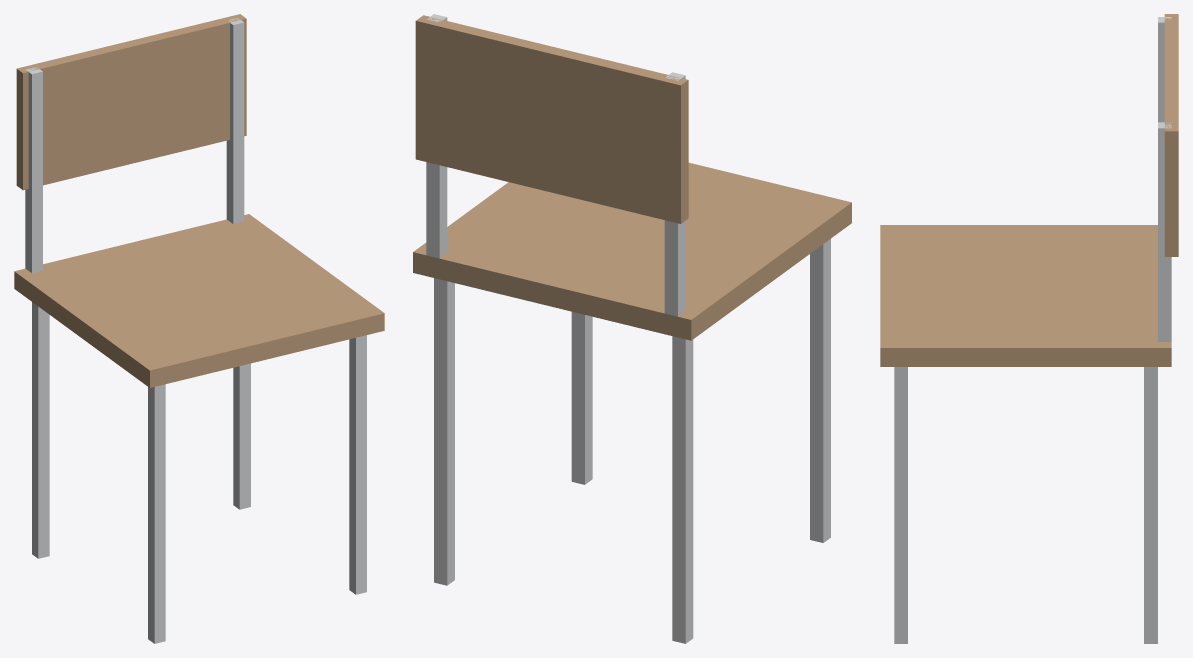
File: Chair_Cafe.fbx
The picture shows the model from 3 angles, left to right: view 1: azimuth 30°, elevation 25°; view 2: azimuth 150°, elevation 25°; view 3: azimuth 270°, elevation 25°; orthographic projection. The views are drawn at different scales.
Parts seen in each view (by area): view 1: Chair_Cafe; view 2: Chair_Cafe; view 3: Chair_Cafe.
Part boxes in pixels (x1=…): Chair_Cafe: x1=14, y1=14, x2=384, y2=643; Chair_Cafe: x1=413, y1=14, x2=851, y2=643; Chair_Cafe: x1=880, y1=14, x2=1178, y2=643.
Size of the model in its own units: 0.42 by 0.82 by 0.43.
